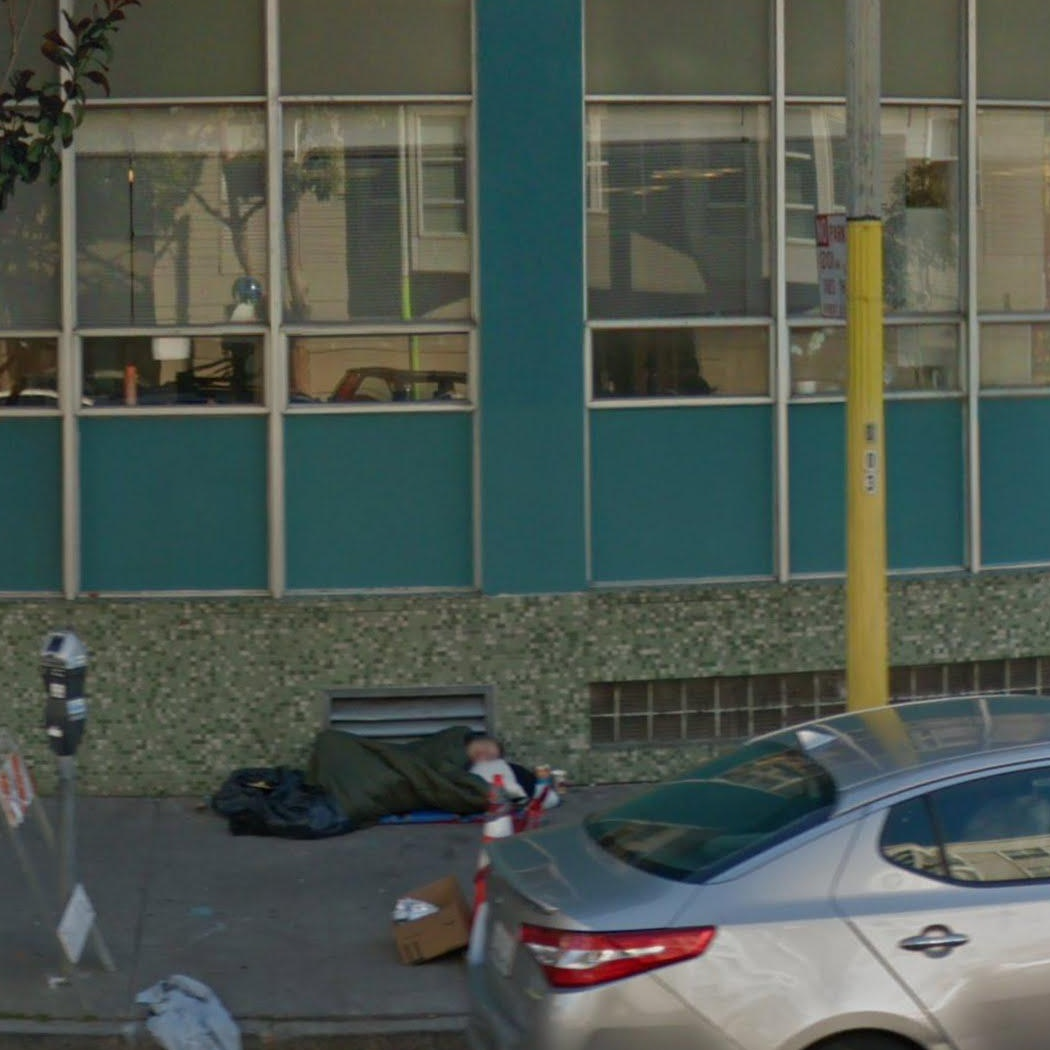No Parking: (812, 211, 852, 320)
